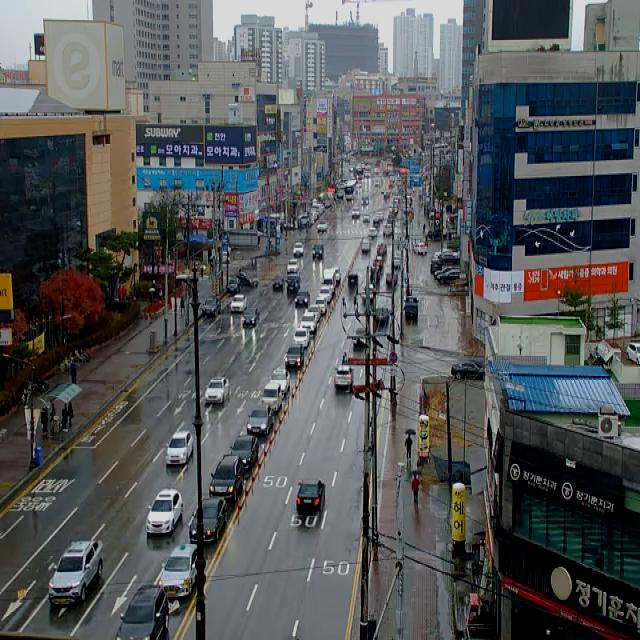Bus: (344, 180, 356, 201)
Car: (49, 541, 103, 606), (115, 585, 169, 640), (157, 544, 197, 598), (189, 497, 227, 544), (209, 455, 244, 502), (147, 489, 183, 534), (296, 479, 326, 514), (230, 435, 258, 470), (166, 431, 193, 465), (205, 377, 230, 406), (247, 408, 272, 436), (451, 362, 485, 379), (270, 370, 290, 394), (334, 366, 354, 389), (285, 345, 304, 368), (434, 249, 460, 264), (300, 312, 317, 334), (236, 272, 259, 288), (242, 308, 260, 328), (437, 269, 460, 284), (202, 299, 220, 318), (294, 328, 309, 348), (231, 295, 247, 313), (286, 273, 300, 293), (627, 343, 640, 364), (295, 291, 310, 309), (305, 305, 320, 323), (434, 267, 456, 279), (352, 331, 366, 348), (319, 286, 332, 304), (376, 307, 389, 325), (314, 298, 327, 315), (227, 278, 240, 294), (362, 284, 374, 300), (312, 245, 324, 260), (272, 276, 284, 291), (386, 273, 398, 287), (347, 272, 359, 286), (287, 259, 299, 273), (331, 266, 340, 284), (431, 259, 442, 273), (293, 243, 304, 257), (360, 239, 371, 252), (373, 257, 384, 270), (370, 269, 380, 283), (416, 243, 427, 255), (377, 243, 387, 256), (383, 224, 392, 238), (317, 222, 328, 233), (368, 228, 377, 238), (352, 210, 360, 220), (376, 212, 384, 222), (373, 217, 381, 226), (362, 196, 369, 205), (363, 214, 370, 223)
Truck: (262, 383, 282, 413), (323, 269, 336, 294), (405, 298, 419, 320)
